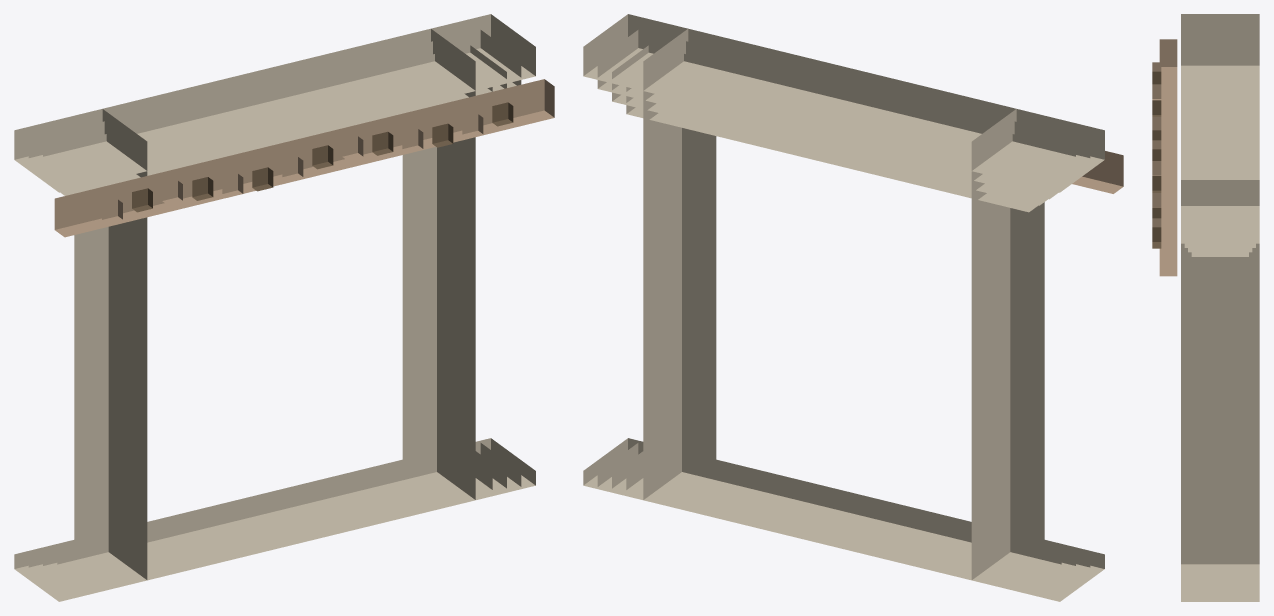
Rendered from meso_stepped_gateway.glb.
The picture shows the model from 3 angles, left to right: view 1: azimuth 30°, elevation 25°; view 2: azimuth 150°, elevation 25°; view 3: azimuth 270°, elevation 25°; orthographic projection. The views are drawn at different scales.
Parts seen in each view (by area): view 1: meso_stepped_gateway; view 2: meso_stepped_gateway; view 3: meso_stepped_gateway.
Part boxes in pixels (x1,y1,x2,y2): meso_stepped_gateway: (14,14,554,601); meso_stepped_gateway: (583,14,1123,601); meso_stepped_gateway: (1152,14,1259,601).
Bounding box in the file's own units: 5.55 × 4.75 × 1.2.
